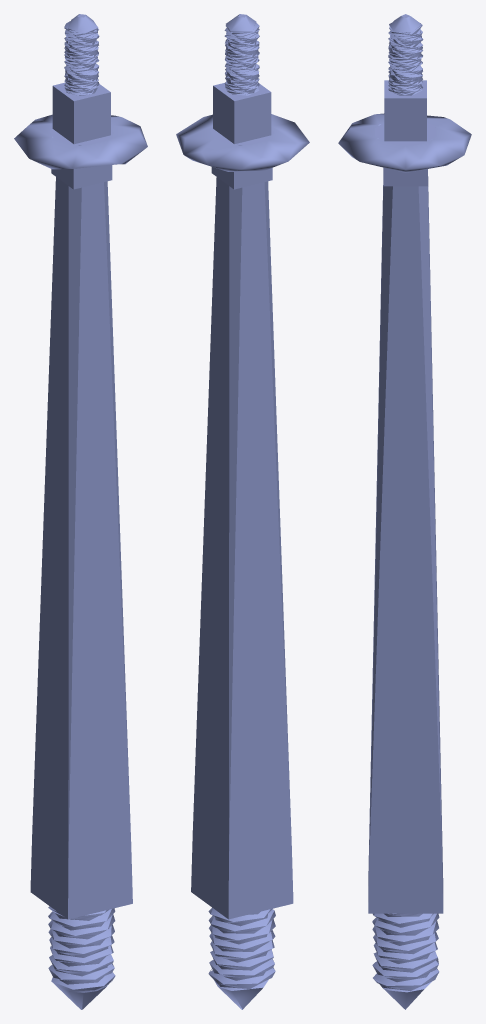
File: Copie de Carr_X2_00e9_X0_ Hexa test^Horloge Comtoise Verge - Sonnerie.obj
The picture shows the model from 3 angles, left to right: view 1: azimuth 30°, elevation 25°; view 2: azimuth 210°, elevation 25°; view 3: azimuth 270°, elevation 25°; orthographic projection.
Visible parts, largest first — view 1: Face_11, Face_1, Face_12, Face_27, Face_10, Face_20, Face_31, Face_38, Face_9, Face_34, Face_7, Face_30 (+6 smaller); view 2: Face_3, Face_16, Face_15, Face_27, Face_10, Face_29, Face_2, Face_38, Face_9, Face_34, Face_32, Face_7 (+7 smaller); view 3: Face_16, Face_27, Face_15, Face_20, Face_10, Face_32, Face_38, Face_9, Face_34, Face_7, Face_3, Face_11 (+7 smaller).
Part boxes in pixels (x1=…): Face_11: x1=68, y1=182, x2=132, y2=919; Face_1: x1=30, y1=177, x2=68, y2=919; Face_12: x1=68, y1=186, x2=81, y2=857; Face_27: x1=14, y1=114, x2=147, y2=168; Face_10: x1=48, y1=906, x2=114, y2=989; Face_20: x1=104, y1=181, x2=130, y2=833; Face_31: x1=74, y1=92, x2=110, y2=144; Face_38: x1=64, y1=21, x2=98, y2=95; Face_9: x1=48, y1=906, x2=115, y2=982; Face_34: x1=64, y1=21, x2=99, y2=95; Face_7: x1=53, y1=909, x2=109, y2=992; Face_30: x1=52, y1=86, x2=73, y2=143; Face_3: x1=228, y1=182, x2=293, y2=919; Face_16: x1=191, y1=177, x2=229, y2=919; Face_15: x1=229, y1=186, x2=242, y2=850; Face_27: x1=176, y1=114, x2=309, y2=169; Face_10: x1=209, y1=908, x2=275, y2=990; Face_29: x1=234, y1=92, x2=271, y2=144; Face_2: x1=264, y1=181, x2=291, y2=836; Face_38: x1=225, y1=22, x2=259, y2=95; Face_9: x1=208, y1=907, x2=275, y2=986; Face_34: x1=224, y1=25, x2=259, y2=94; Face_32: x1=213, y1=86, x2=234, y2=143; Face_7: x1=214, y1=911, x2=267, y2=988; Face_16: x1=368, y1=186, x2=443, y2=913; Face_27: x1=338, y1=113, x2=471, y2=169; Face_15: x1=418, y1=186, x2=441, y2=848; Face_20: x1=369, y1=186, x2=392, y2=844; Face_10: x1=372, y1=913, x2=438, y2=992; Face_32: x1=384, y1=98, x2=426, y2=141; Face_38: x1=388, y1=25, x2=422, y2=95; Face_9: x1=372, y1=913, x2=439, y2=987; Face_34: x1=388, y1=23, x2=423, y2=95; Face_7: x1=377, y1=913, x2=433, y2=990; Face_3: x1=428, y1=176, x2=443, y2=909; Face_11: x1=368, y1=185, x2=383, y2=901.
Size of the model in its own units: 0.0142 by 0.1155 by 0.0141.
